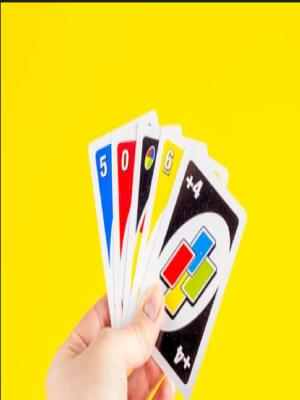colour: (142, 142, 158, 173)
num_0: (118, 138, 131, 181)
num_5: (98, 149, 110, 185)
num_6: (161, 142, 176, 183)
wild-4: (183, 169, 204, 205)
